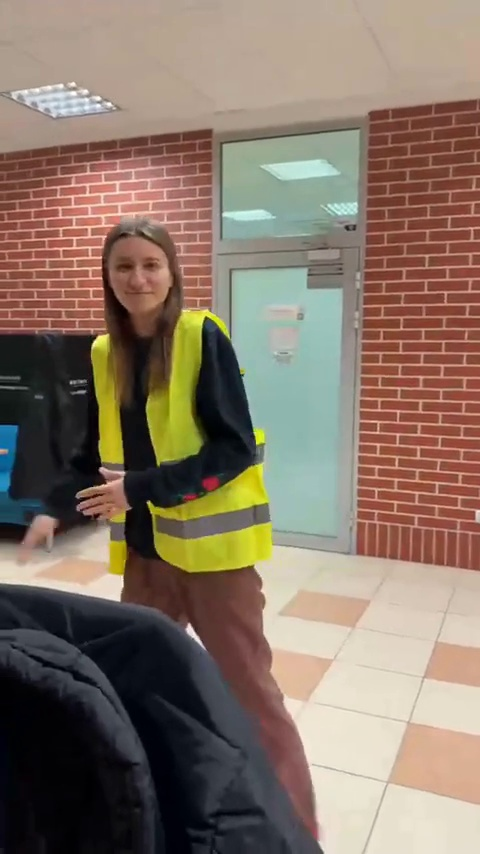vest: (66, 210, 328, 822)
